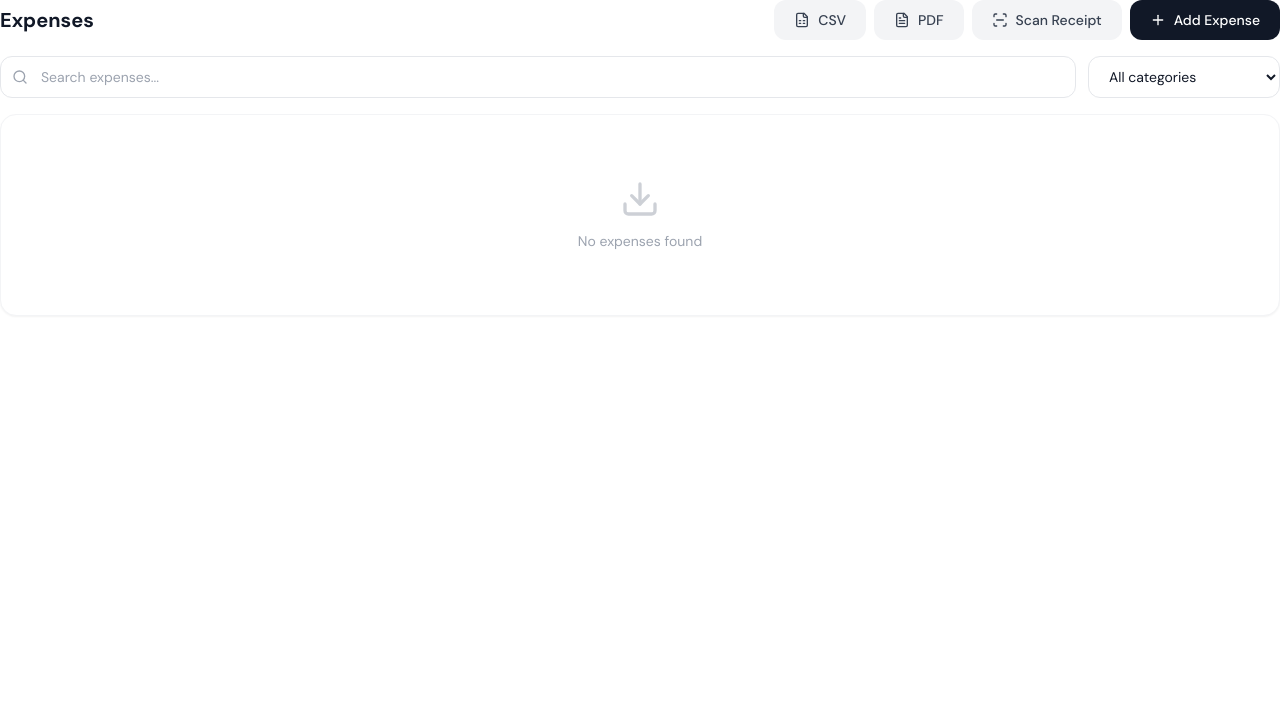
Test case: ExpenseForm — add expense modal › closes the modal when the Cancel button is clicked
The image size is (1280, 720).
Click the button "Add Expense".
click(1205, 20)  # box x1=1130 y1=0 x2=1279 y2=40
(page scrolled)
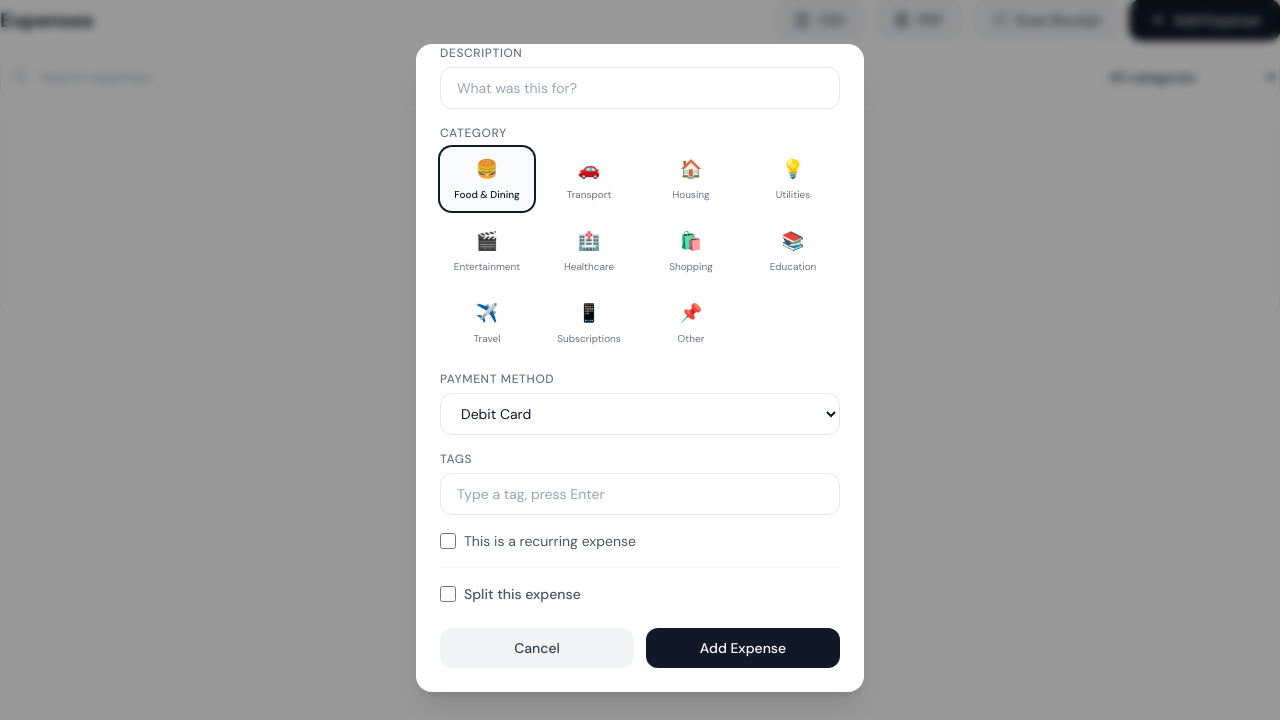
Click the button "Cancel".
click(537, 648)  # box x1=440 y1=628 x2=634 y2=668
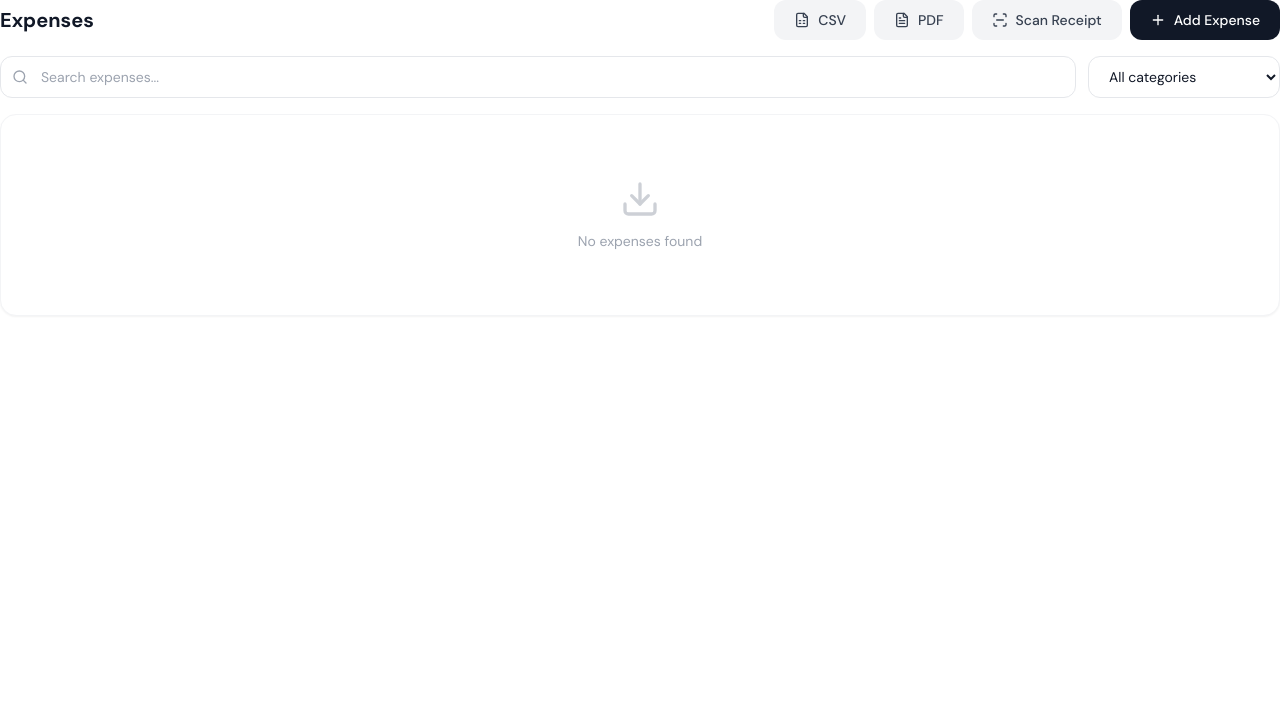
Expected: the button "Cancel" is gone
